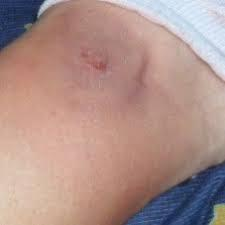Spider: (40, 6, 123, 119)
